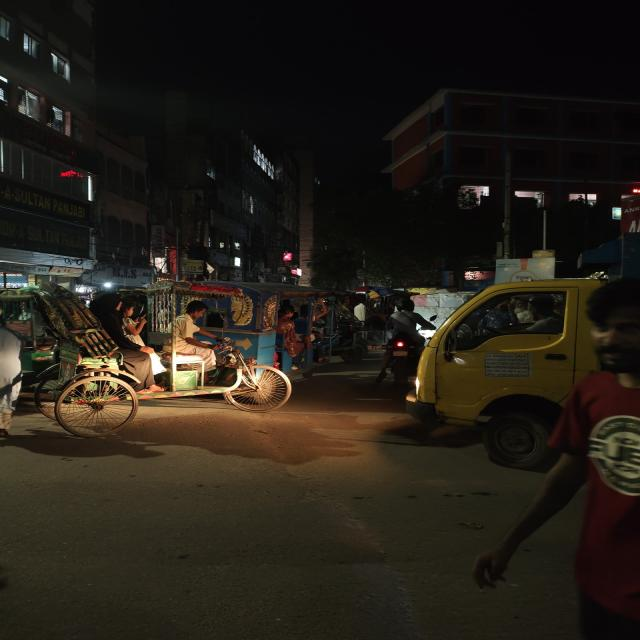motorcycle: (385, 296, 434, 368)
pedestrian: (554, 326, 640, 640)
pickup_van: (408, 278, 633, 475)
rickshaw: (4, 303, 288, 440), (258, 280, 370, 371)
